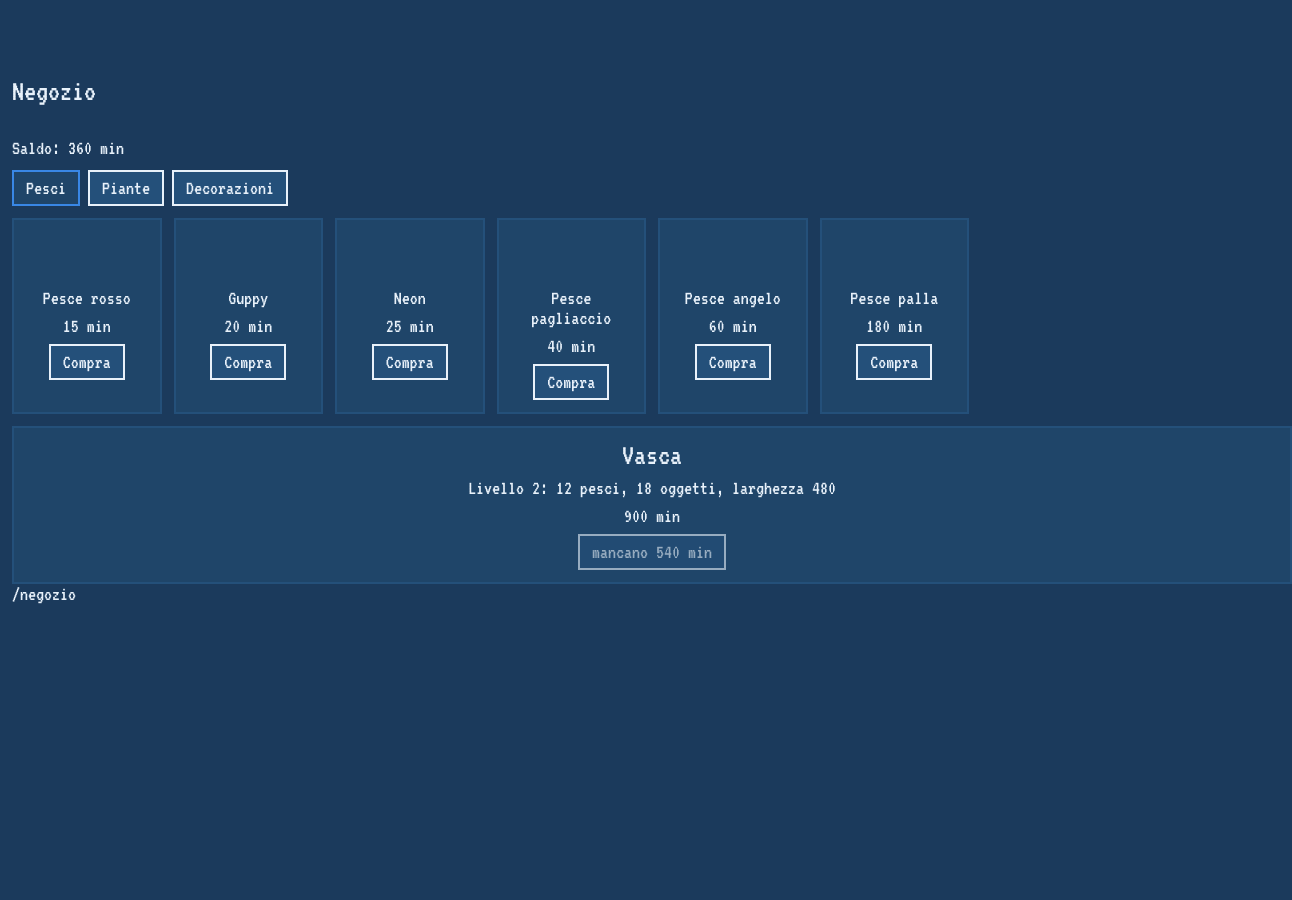
Test: ShopScreen › buying a plant with a full tank reports the reserve and stays on the shop
This screenshot has width=1292, height=900.
Click the tab "Piante" at (126, 188), box [88,170,164,206]
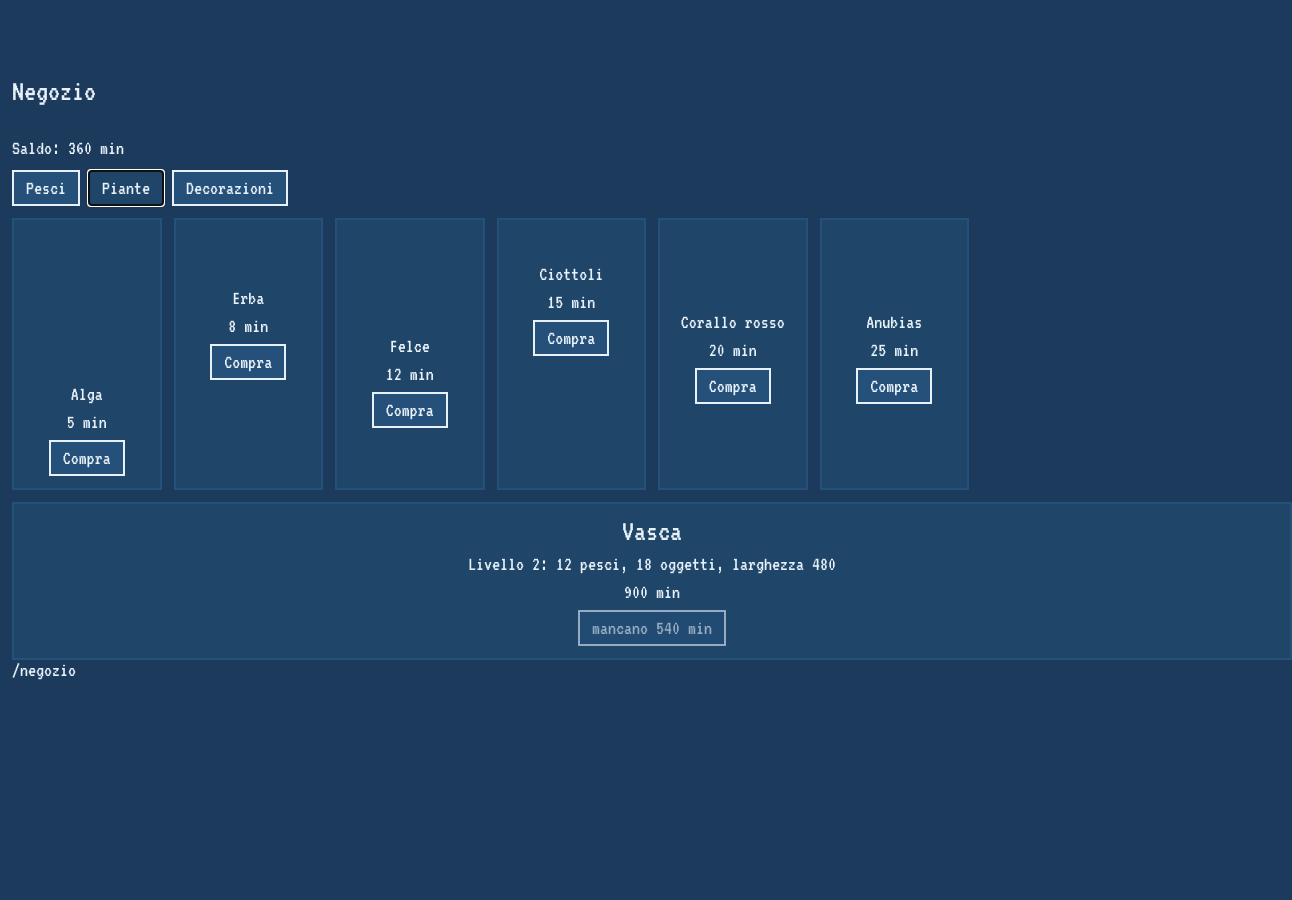
Click the button "Compra" below "Alga" at (87, 458), box [49,440,125,476]
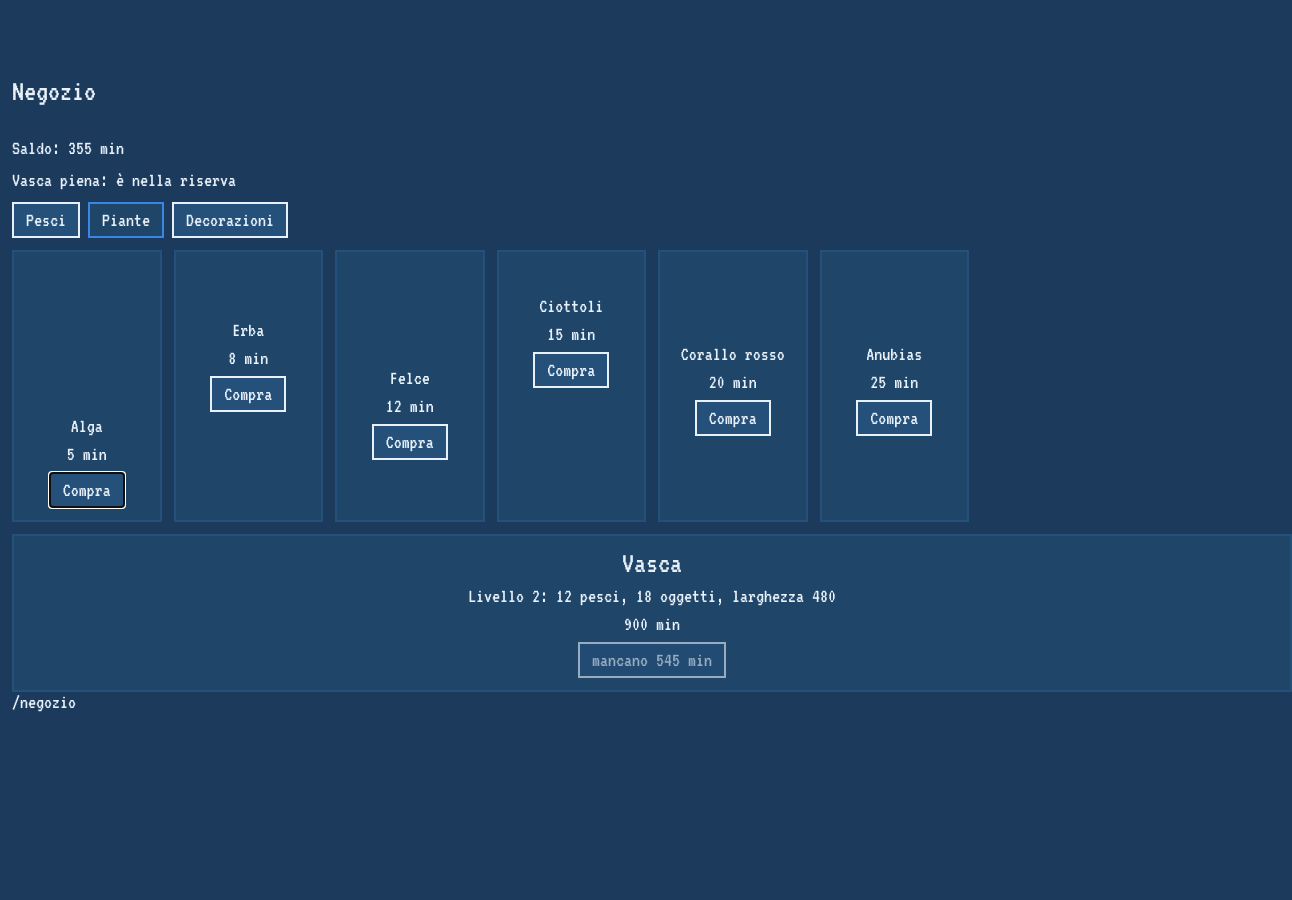
Expected: the text with test id "location" reads "/negozio", [12,692,76,712]
Result: the text "Vasca piena: è nella riserva" is shown at [12,170,236,190]
